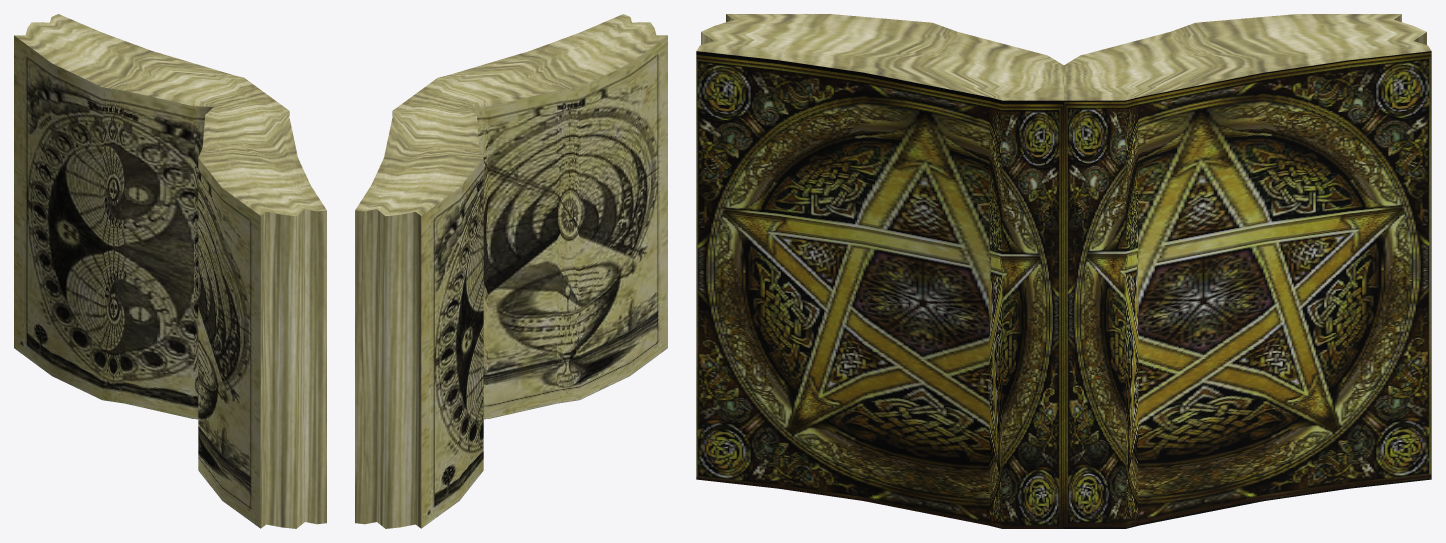
Rendered from spellbook.FBX.
3 views of the same model, side by side, from view 1: azimuth 30°, elevation 25°; view 2: azimuth 150°, elevation 25°; view 3: azimuth 270°, elevation 25° (orthographic). The views are drawn at different scales.
Visible parts, largest first — view 1: Box001; view 2: Box001; view 3: Box001.
Boxes of the visible parts, bbox=[...] form: Box001: bbox=[14, 14, 326, 528]; Box001: bbox=[355, 14, 667, 528]; Box001: bbox=[696, 14, 1431, 528].
Size of the model in its own units: 27.9 by 64.4 by 100.
1 material, 1 textured.
